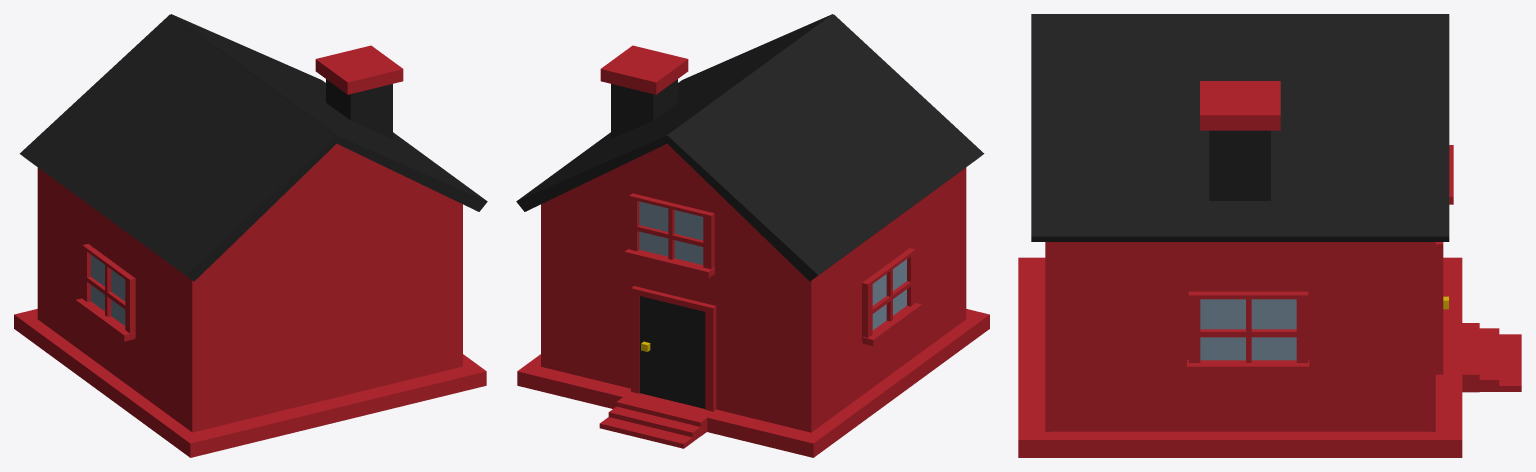
Rendered from Basic House Black Roof.fbx.
3 views of the same model, side by side, from view 1: azimuth 30°, elevation 25°; view 2: azimuth 150°, elevation 25°; view 3: azimuth 270°, elevation 25° (orthographic). The views are drawn at different scales.
Parts seen in each view (by area): view 1: pasted__pasted__pasted__pCube1 (×2), pasted__pasted__pCube1, pasted__pCube1 (×2), pCube1, pasted__pCube2, pCube2, pasted__pasted__pasted__pasted__pasted__pCube1 (×2), pasted__pasted__pasted__pasted__pCube1; view 2: pasted__pasted__pCube1 (×3), pasted__pCube1 (×5), pCube1, pasted__pasted__pasted__pasted__pCube1 (×2), pasted__pasted__pasted__pasted__pasted__pCube1 (×4), pasted__pCube2, pCube2, pasted__pasted__pasted__pCube1 (×2); view 3: pasted__pCube1 (×3), pasted__pasted__pCube1 (×3), pCube1, pasted__pasted__pasted__pCube1 (×3), pCube2, pasted__pCube2, pasted__pasted__pasted__pasted__pasted__pCube1, pasted__pCube3.
Part boxes in pixels (x1,y1,x2,y2): pasted__pasted__pasted__pCube1 (×2): (82,143,462,432); pasted__pasted__pCube1: (19,14,340,281); pasted__pCube1 (×2): (37,14,487,432); pCube1: (14,309,486,457); pasted__pCube2: (315,45,403,94); pCube2: (326,79,392,138); pasted__pasted__pasted__pasted__pasted__pCube1 (×2): (75,275,135,341); pasted__pasted__pasted__pasted__pCube1: (91,255,125,325); pasted__pasted__pCube1 (×3): (541,14,984,432); pasted__pCube1 (×5): (516,14,966,448); pCube1: (517,309,989,457); pasted__pasted__pasted__pasted__pCube1 (×2): (639,201,906,330); pasted__pasted__pasted__pasted__pasted__pCube1 (×4): (624,211,921,346); pasted__pCube2: (600,45,688,94); pCube2: (611,79,677,138); pasted__pasted__pasted__pCube1 (×2): (629,193,910,341); pasted__pCube1 (×3): (1031,14,1521,392); pasted__pasted__pCube1 (×3): (1050,242,1435,431); pCube1: (1018,257,1462,457); pasted__pasted__pasted__pCube1 (×3): (1045,242,1308,431); pCube2: (1209,130,1270,200); pasted__pCube2: (1200,81,1280,130); pasted__pasted__pasted__pasted__pasted__pCube1: (1187,360,1309,374); pasted__pCube3: (1200,329,1297,337).
Bounding box in the file's own units: 7.12 × 6.34 × 8.15.
